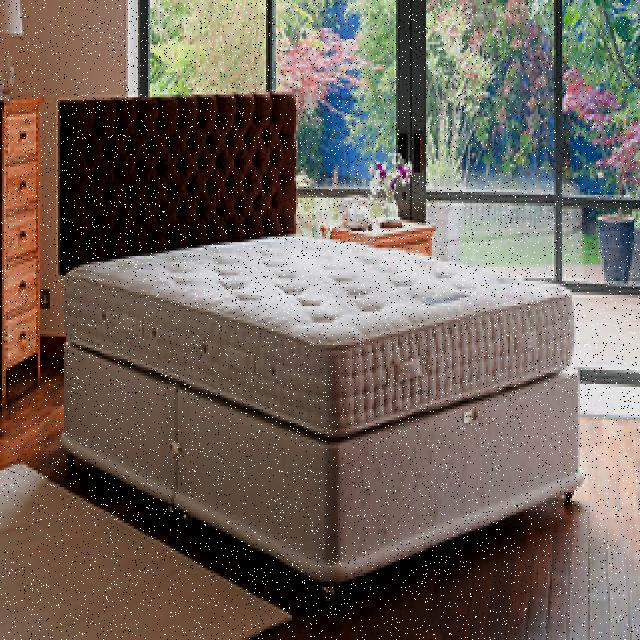bed: (53, 98, 589, 570)
